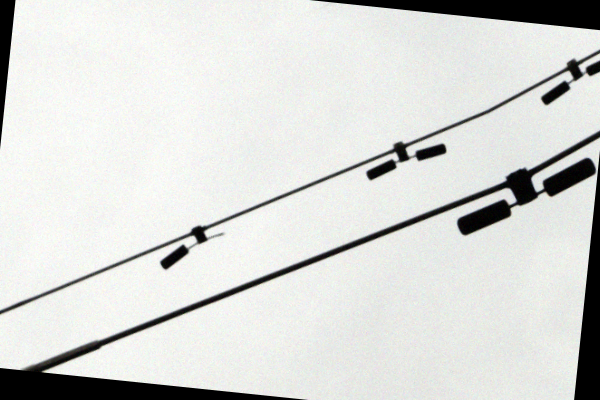damper: (454, 154, 597, 239), (364, 136, 448, 181)
damper_defect: (156, 223, 227, 271)
